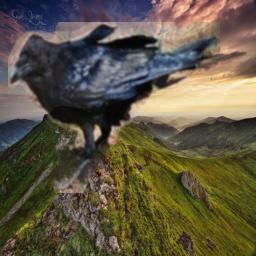Crow: (8, 22, 220, 193)
